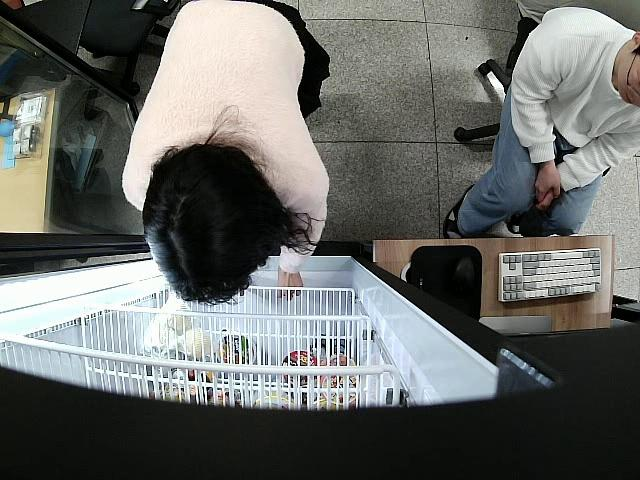00_hand: (273, 267, 305, 303)
